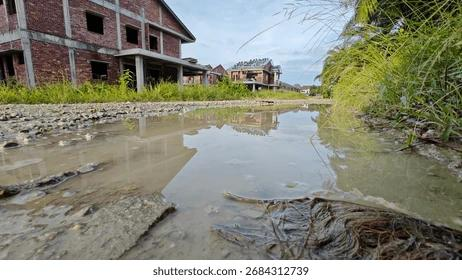Stagnant water: (1, 83, 462, 260)
